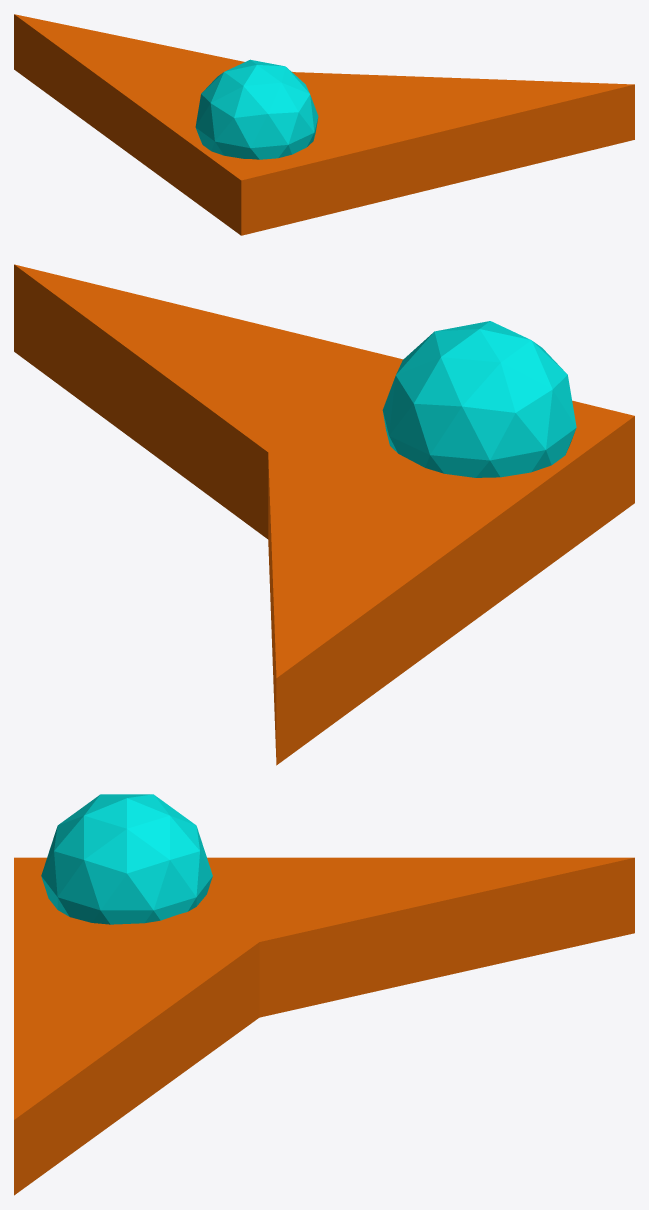
The model's file is ship.fbx.
3 renders of one model, top to bottom at view 1: azimuth 30°, elevation 25°; view 2: azimuth 150°, elevation 25°; view 3: azimuth 270°, elevation 25°, orthographic. The views are drawn at different scales.
Visible parts, largest first — view 1: Cube, Icosphere; view 2: Cube, Icosphere; view 3: Cube, Icosphere.
Boxes of the visible parts, box(x1,y1,x2,y2) form: Cube: box(14, 14, 634, 235); Icosphere: box(195, 59, 318, 159); Cube: box(14, 264, 634, 765); Icosphere: box(382, 321, 576, 477); Cube: box(14, 857, 634, 1195); Icosphere: box(41, 794, 212, 924).
Size of the model in its own units: 200 by 61.54 by 200.
